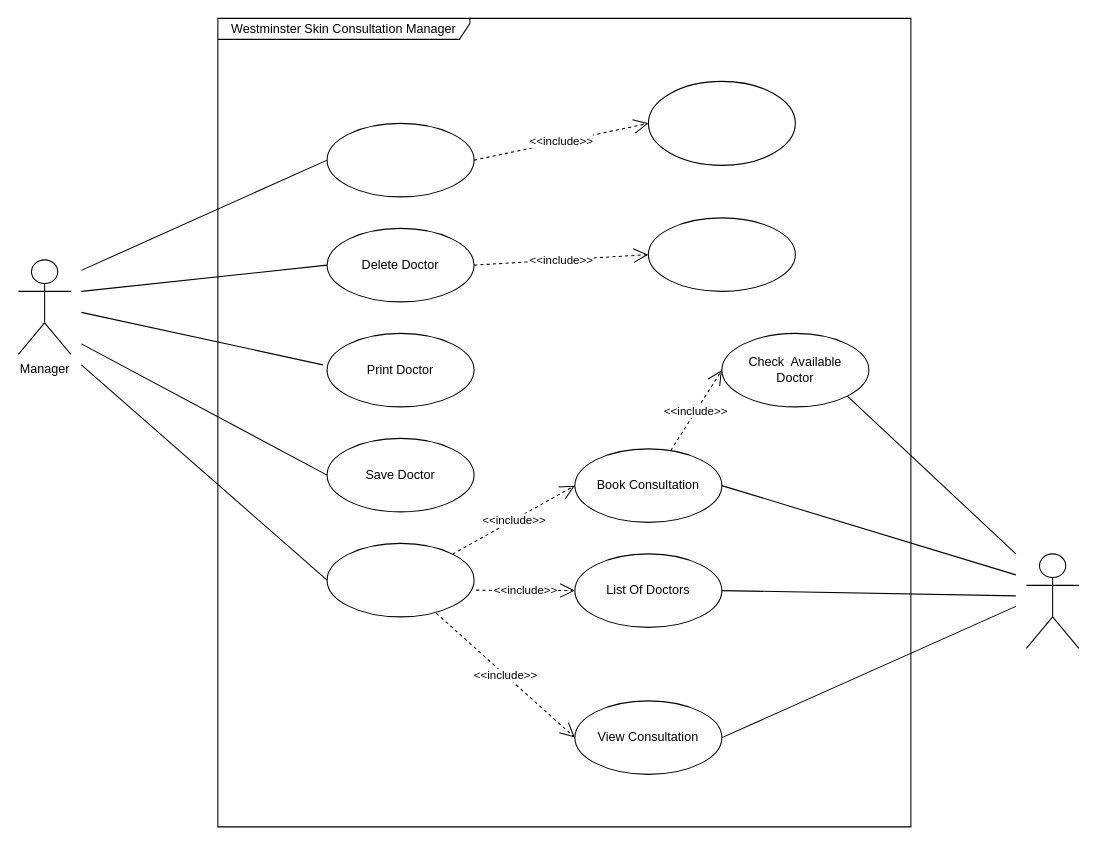
The diagram is 1097 pixels wide and 845 high, and some of its shapes have lost their labels. The shapes that lost their labels are listed below. From the top down, each one's box as (x1, y1, x2, y2) in pixels, then its label:
(647, 80, 795, 165): Check Maximum Doctor Count
(326, 122, 474, 197): Add Doctor
(647, 217, 795, 291): Check Medical License Number
(326, 542, 474, 617): Load GUI
(1025, 553, 1079, 648): User
